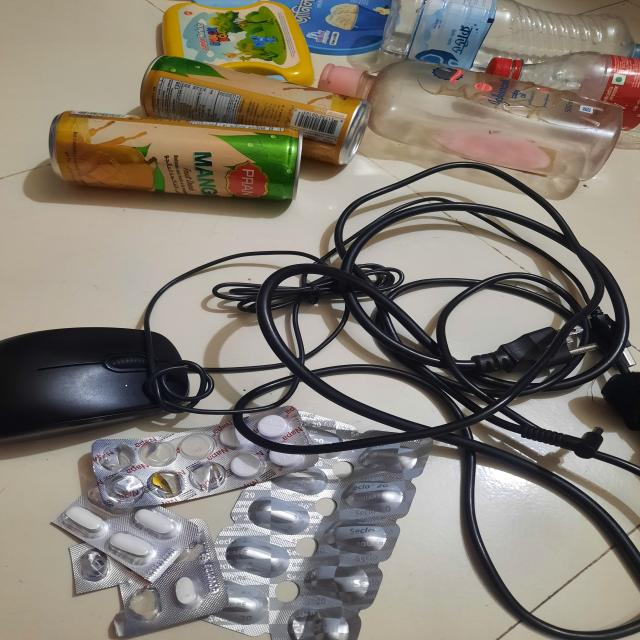Cable: (136, 173, 640, 459)
Medical Waste: (53, 421, 465, 640)
Plastics: (352, 0, 640, 196)
can: (19, 48, 368, 211)
